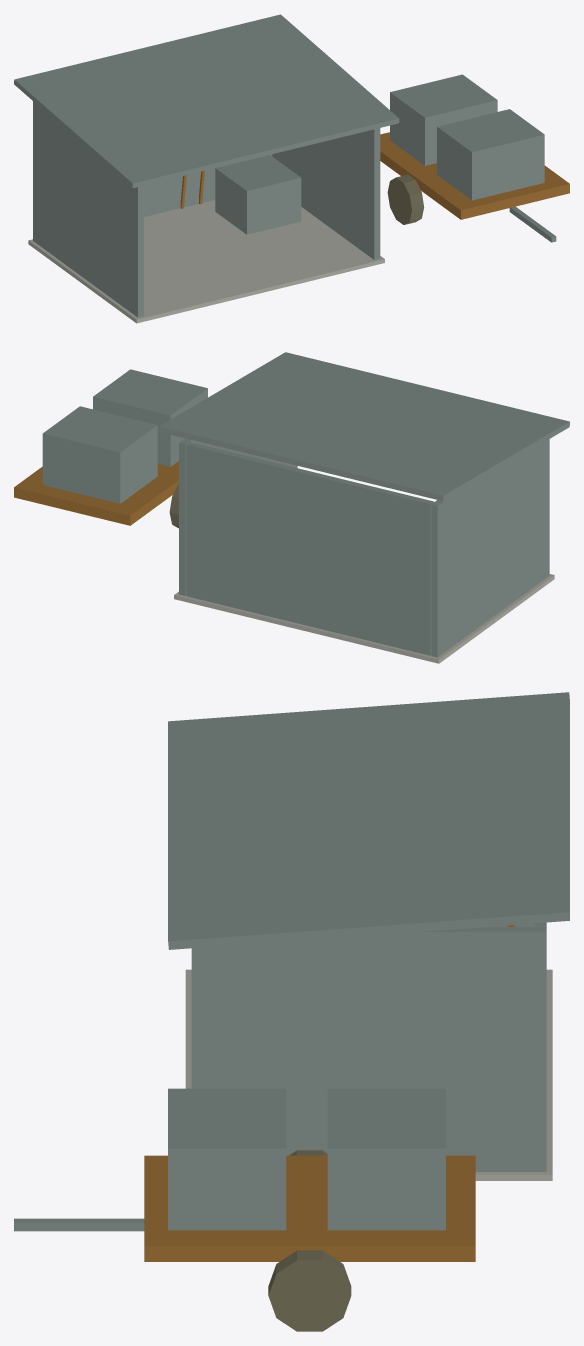
Rendered from SM_CasetaAperos_v3_Remolque_LOD0.fbx.
3 views of the same model, one above another, from view 1: azimuth 30°, elevation 25°; view 2: azimuth 150°, elevation 25°; view 3: azimuth 270°, elevation 25° (orthographic). The views are drawn at different scales.
Parts seen in each view (by area): view 1: SM_huerta_nules_v23_LOD0; view 2: SM_huerta_nules_v23_LOD0; view 3: SM_huerta_nules_v23_LOD0.
Part boxes in pixels (x1=…): SM_huerta_nules_v23_LOD0: x1=14, y1=14, x2=569, y2=323; SM_huerta_nules_v23_LOD0: x1=14, y1=352, x2=569, y2=663; SM_huerta_nules_v23_LOD0: x1=14, y1=692, x2=569, y2=1331.
Bounding box in the file's own units: 7.3 × 2.58 × 4.7.
